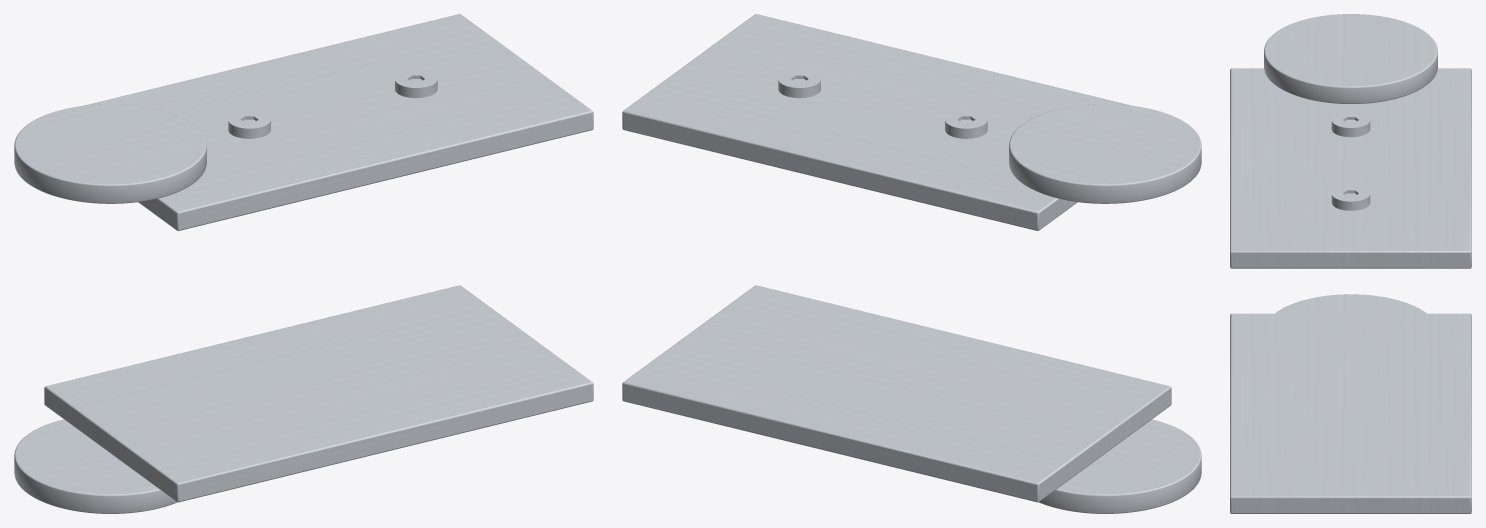
File: right_wrist_aluminium.obj
3 renders of one model, left to right at view 1: azimuth 30°, elevation 25°; view 2: azimuth 150°, elevation 25°; view 3: azimuth 270°, elevation 25°, orthographic. The views are drawn at different scales.
Visible parts, largest first — view 1: right_wrist__aluminium_cheek_-1, right_wrist__aluminium_cheek_1, right_wrist__pivot_cap_1, right_wrist__pivot_cap_-1, right_wrist__bracket_screw_1_0.015, right_wrist__bracket_screw_1_0.033; view 2: right_wrist__aluminium_cheek_-1, right_wrist__aluminium_cheek_1, right_wrist__pivot_cap_1, right_wrist__pivot_cap_-1, right_wrist__bracket_screw_1_0.015, right_wrist__bracket_screw_1_0.033; view 3: right_wrist__aluminium_cheek_-1, right_wrist__aluminium_cheek_1, right_wrist__pivot_cap_1, right_wrist__pivot_cap_-1, right_wrist__bracket_screw_1_0.015, right_wrist__bracket_screw_1_0.033.
Boxes of the visible parts, bbox=[...] form: right_wrist__aluminium_cheek_-1: bbox=[44, 285, 593, 502]; right_wrist__aluminium_cheek_1: bbox=[83, 14, 593, 230]; right_wrist__pivot_cap_1: bbox=[14, 104, 206, 203]; right_wrist__pivot_cap_-1: bbox=[14, 419, 176, 513]; right_wrist__bracket_screw_1_0.015: bbox=[228, 110, 270, 138]; right_wrist__bracket_screw_1_0.033: bbox=[395, 70, 437, 98]; right_wrist__aluminium_cheek_-1: bbox=[622, 285, 1171, 502]; right_wrist__aluminium_cheek_1: bbox=[622, 14, 1132, 230]; right_wrist__pivot_cap_1: bbox=[1009, 104, 1201, 203]; right_wrist__pivot_cap_-1: bbox=[1039, 419, 1201, 513]; right_wrist__bracket_screw_1_0.015: bbox=[945, 110, 987, 138]; right_wrist__bracket_screw_1_0.033: bbox=[778, 70, 820, 98]; right_wrist__aluminium_cheek_-1: bbox=[1230, 313, 1471, 513]; right_wrist__aluminium_cheek_1: bbox=[1230, 68, 1471, 268]; right_wrist__pivot_cap_1: bbox=[1264, 14, 1437, 103]; right_wrist__pivot_cap_-1: bbox=[1275, 294, 1426, 313]; right_wrist__bracket_screw_1_0.015: bbox=[1331, 111, 1370, 137]; right_wrist__bracket_screw_1_0.033: bbox=[1331, 185, 1370, 210].
Bounding box in the file's own units: 0.054 × 0.034 × 0.025.
Materials: 1 (1 with a texture image).
